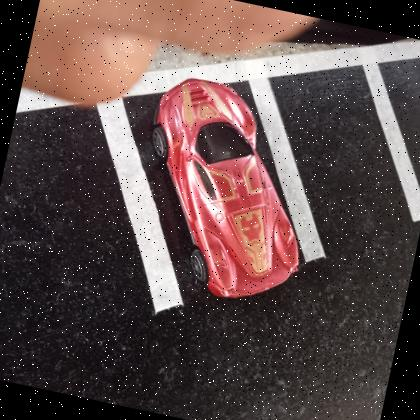Car: (155, 79, 303, 300)
